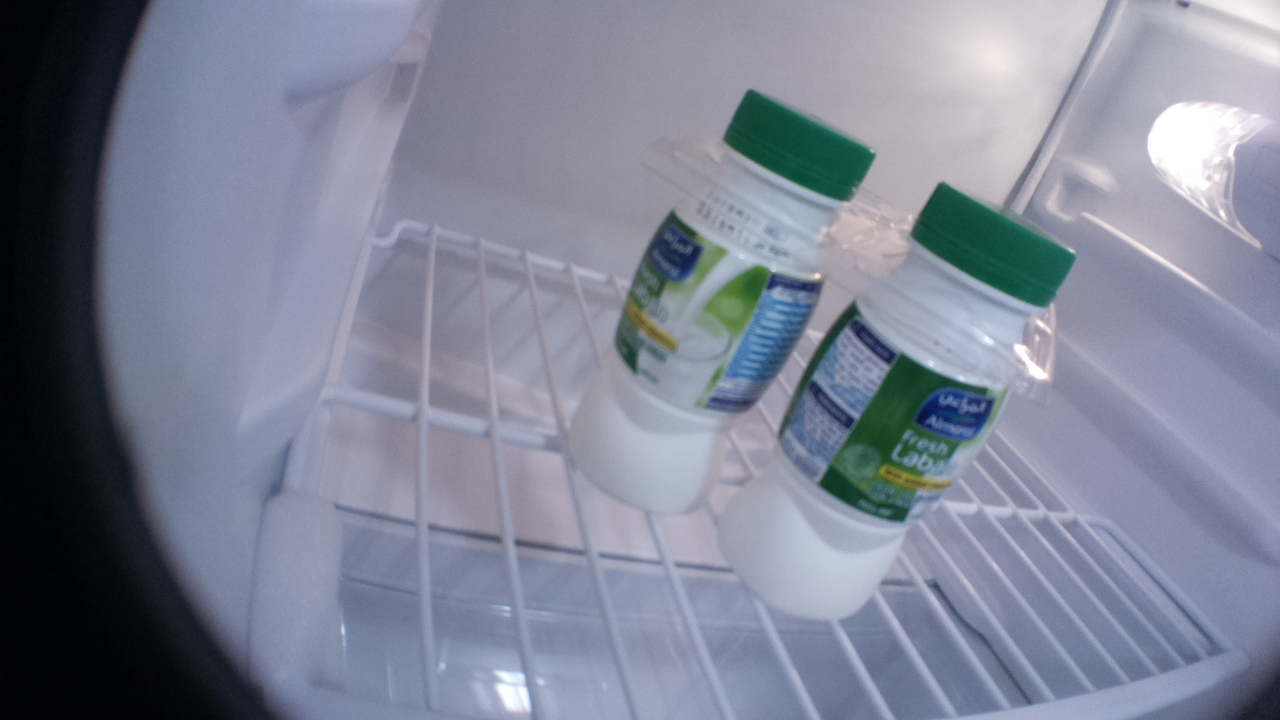laban: (702, 168, 1079, 626), (562, 87, 877, 508)
